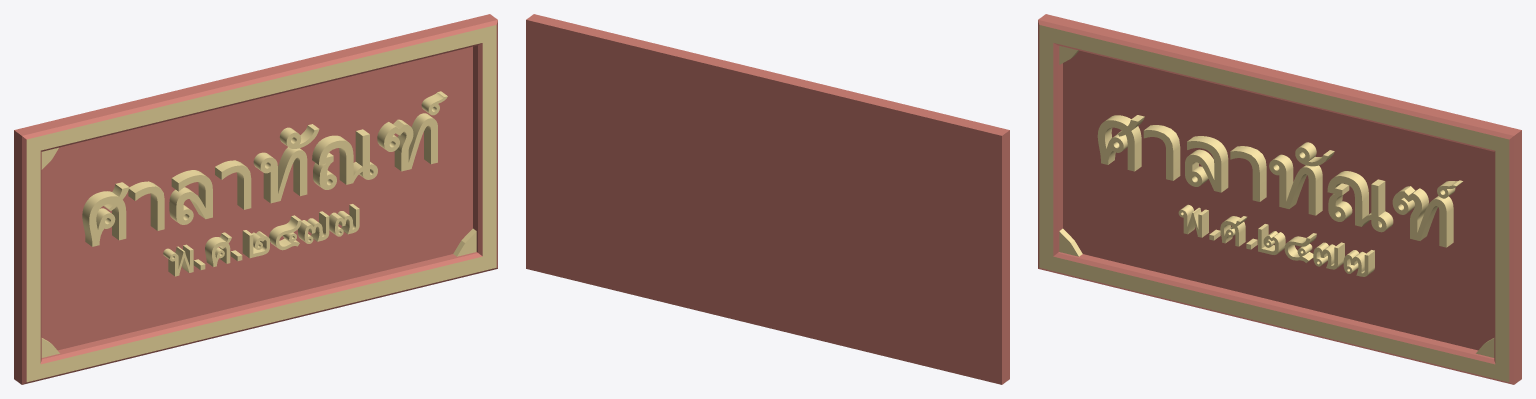
The model's file is Sign2.fbx.
The picture shows the model from 3 angles, left to right: view 1: azimuth 30°, elevation 25°; view 2: azimuth 150°, elevation 25°; view 3: azimuth 330°, elevation 25°; orthographic projection.
Visible parts, largest first — view 1: polySurface20; view 2: polySurface20; view 3: polySurface20.
Part boxes in pixels (x1=…): polySurface20: x1=14, y1=14, x2=497, y2=384; polySurface20: x1=526, y1=14, x2=1009, y2=384; polySurface20: x1=1038, y1=14, x2=1521, y2=384.
Size of the model in its own units: 100 by 50 by 4.25.
